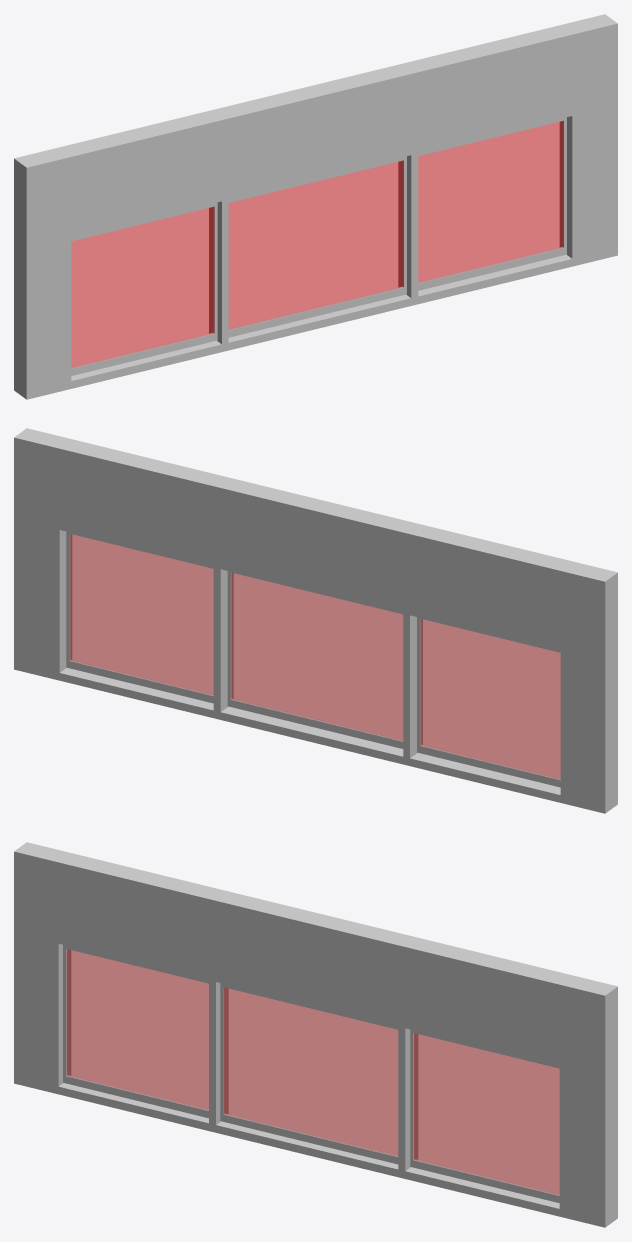
The model's file is wall with windows set 9.FBX.
3 views of the same model, one above another, from view 1: azimuth 30°, elevation 25°; view 2: azimuth 150°, elevation 25°; view 3: azimuth 330°, elevation 25° (orthographic).
Parts seen in each view (by area): view 1: wall with windows set 9; view 2: wall with windows set 9; view 3: wall with windows set 9.
Boxes of the visible parts, bbox=[...] form: wall with windows set 9: bbox=[14, 14, 617, 399]; wall with windows set 9: bbox=[14, 428, 617, 813]; wall with windows set 9: bbox=[14, 842, 617, 1227].
Size of the model in its own units: 4 by 0.15 by 1.5.
